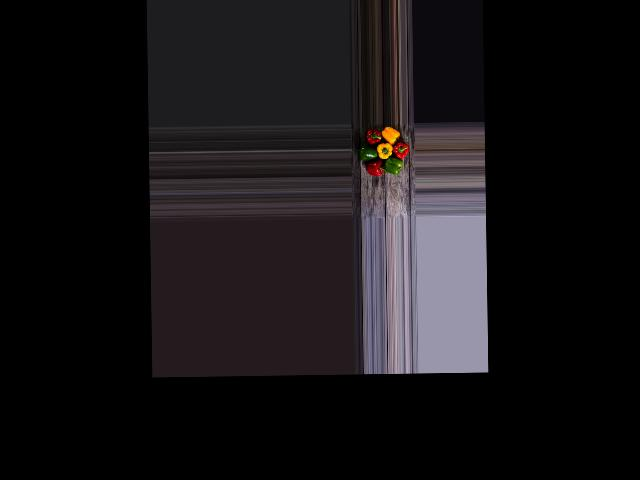bell_pepper: (365, 124, 384, 144)
